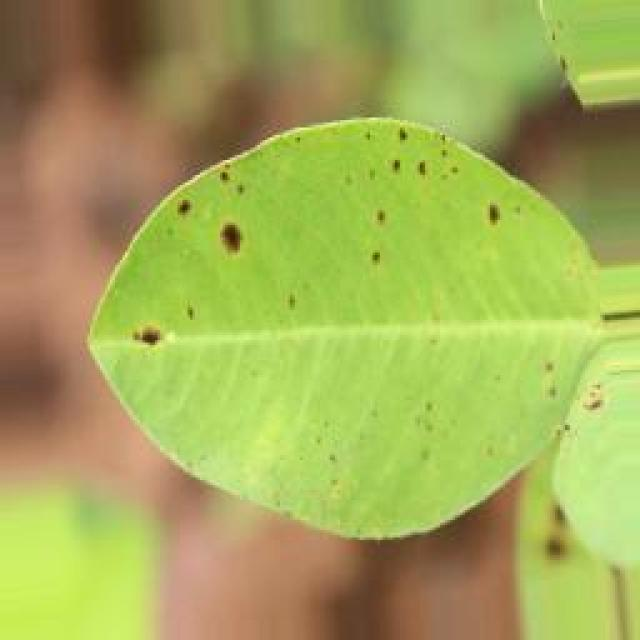Early_leaf_spot: (164, 170, 272, 292), (300, 185, 413, 300), (334, 95, 454, 192), (113, 299, 228, 385), (538, 340, 618, 430), (445, 169, 511, 248)
